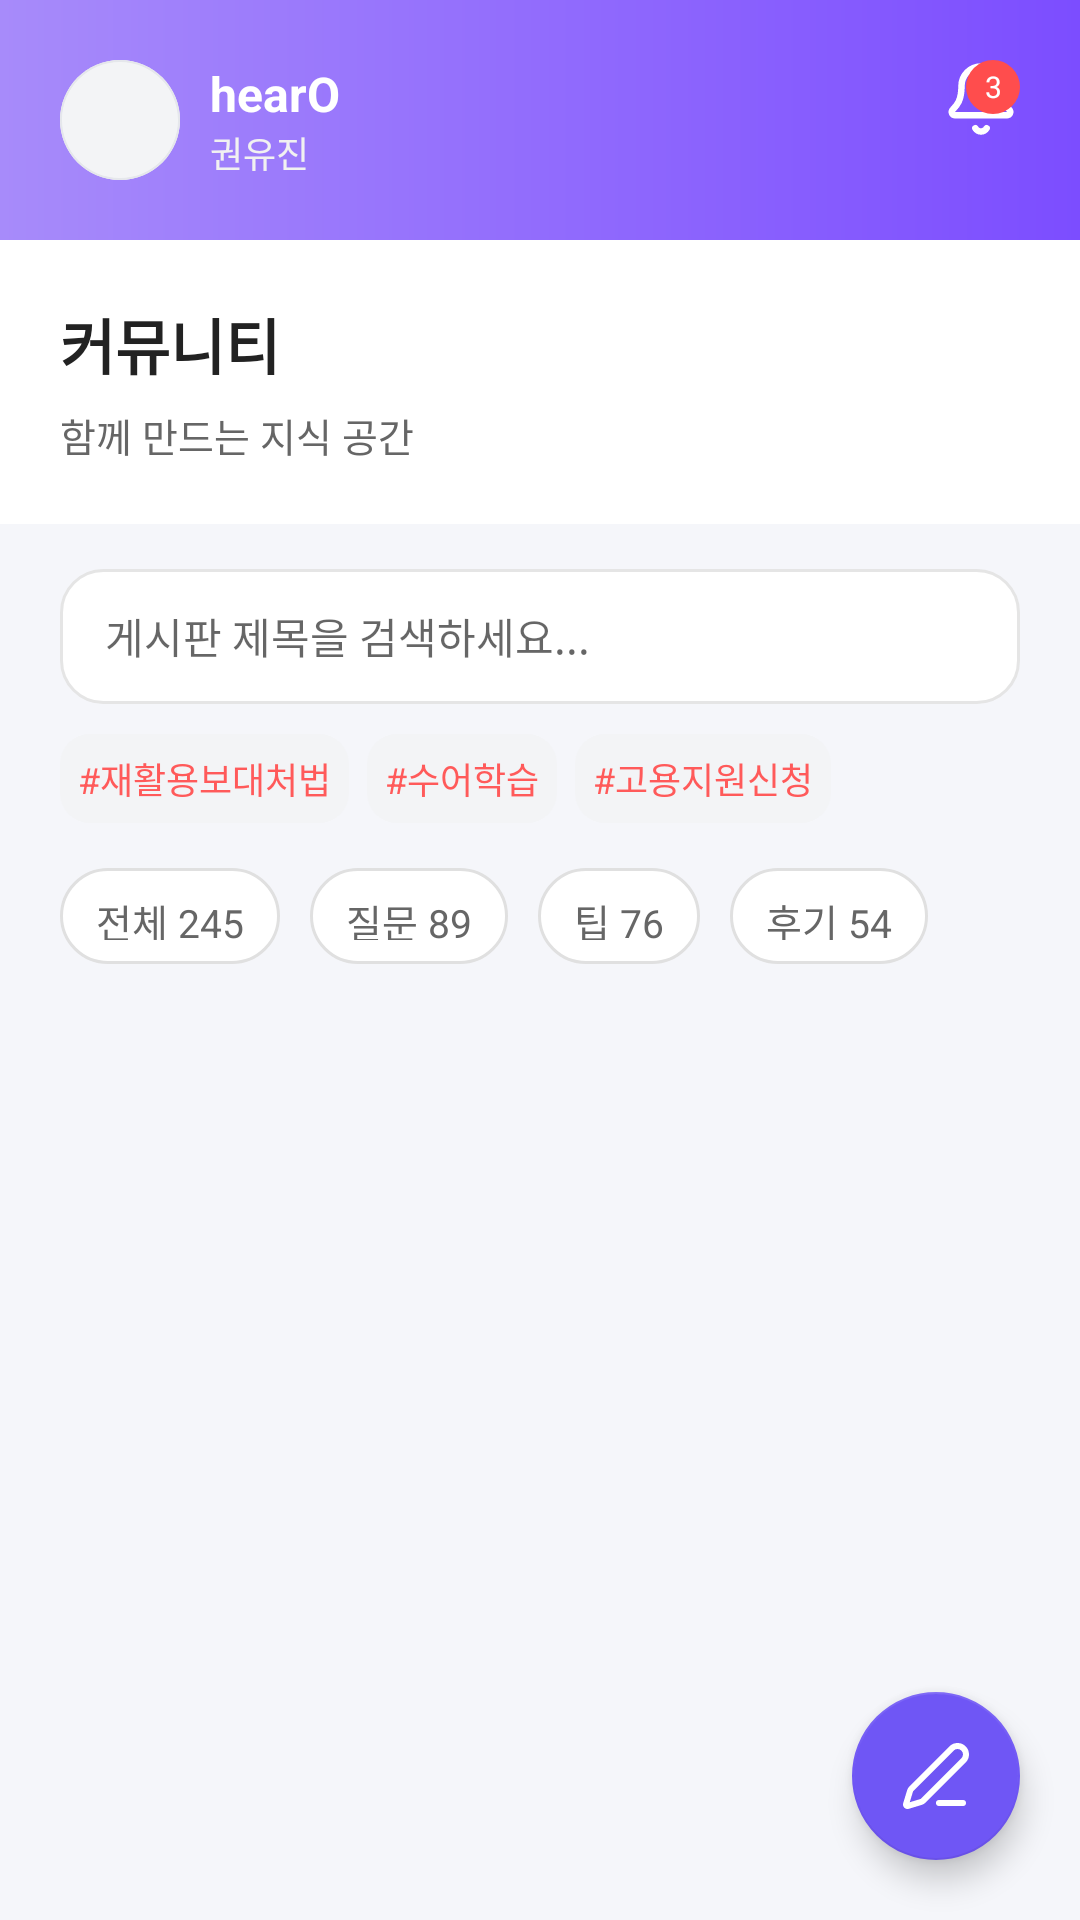

Screen size 1080×1920. Icon name, then its box in pixels as (x1, y1, x2, y2):
edit: (852, 1692, 1020, 1860)
